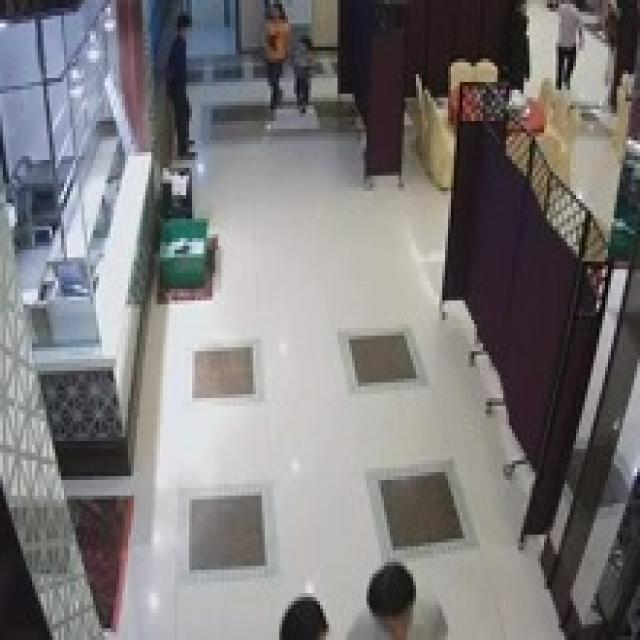Normal: (157, 9, 214, 166), (250, 0, 290, 115), (287, 21, 326, 126)
